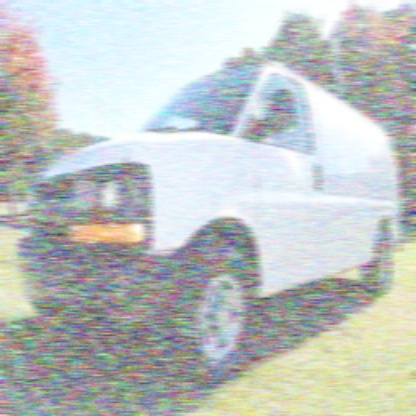Vehicle: (12, 55, 407, 392)
